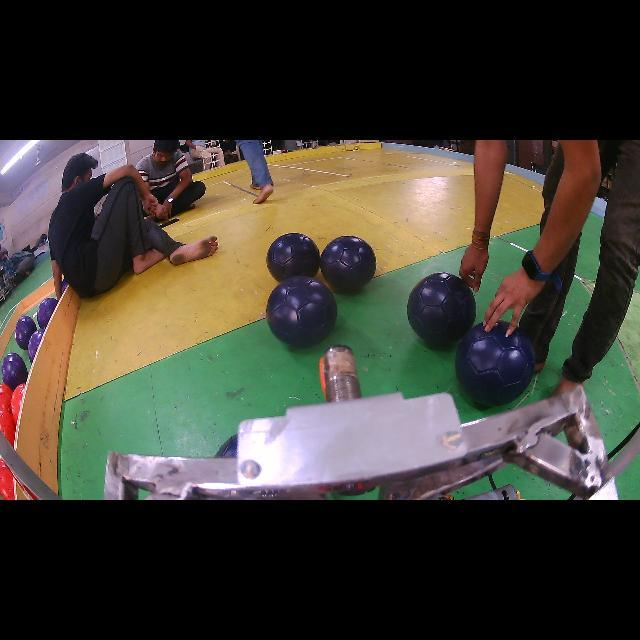B: (455, 321, 535, 406), (266, 276, 338, 348), (408, 272, 476, 345), (320, 235, 376, 292), (266, 232, 320, 282), (215, 434, 238, 458)
P: (1, 352, 28, 390), (15, 316, 36, 350), (36, 298, 58, 329), (28, 329, 45, 364)
R: (0, 459, 15, 500), (0, 410, 16, 446), (11, 384, 25, 423), (0, 384, 12, 412)
